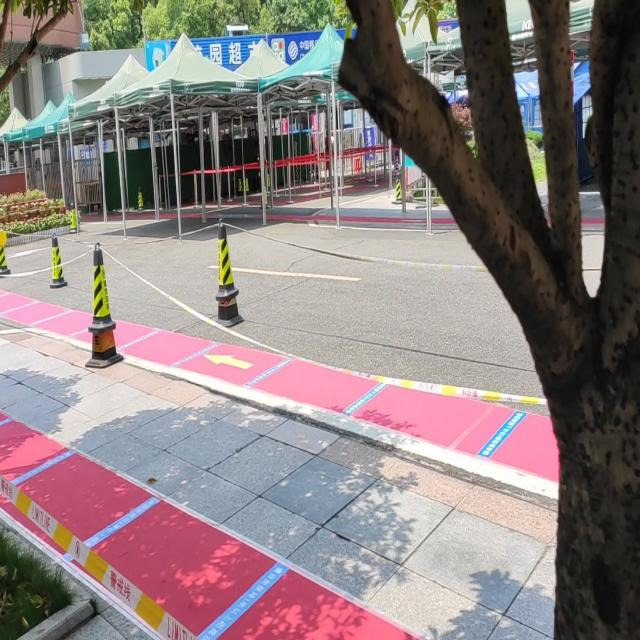reflective_cone: (87, 241, 116, 333), (214, 217, 240, 300), (49, 232, 68, 287), (0, 229, 11, 274), (394, 170, 402, 204), (70, 202, 78, 234), (137, 185, 144, 210), (237, 177, 243, 196), (244, 176, 250, 194)
